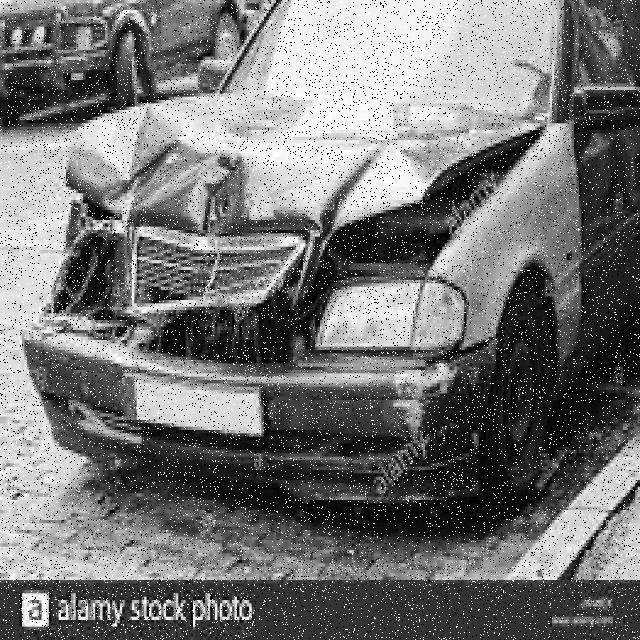bonnet-dent: (70, 80, 514, 240)
front-bumper-dent: (293, 323, 505, 539)
